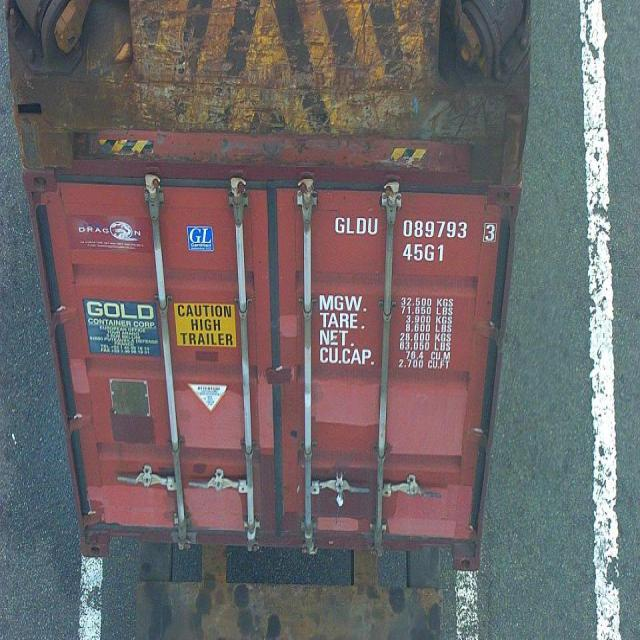ISO: (405, 243, 447, 263)
container_number: (335, 219, 489, 240)
